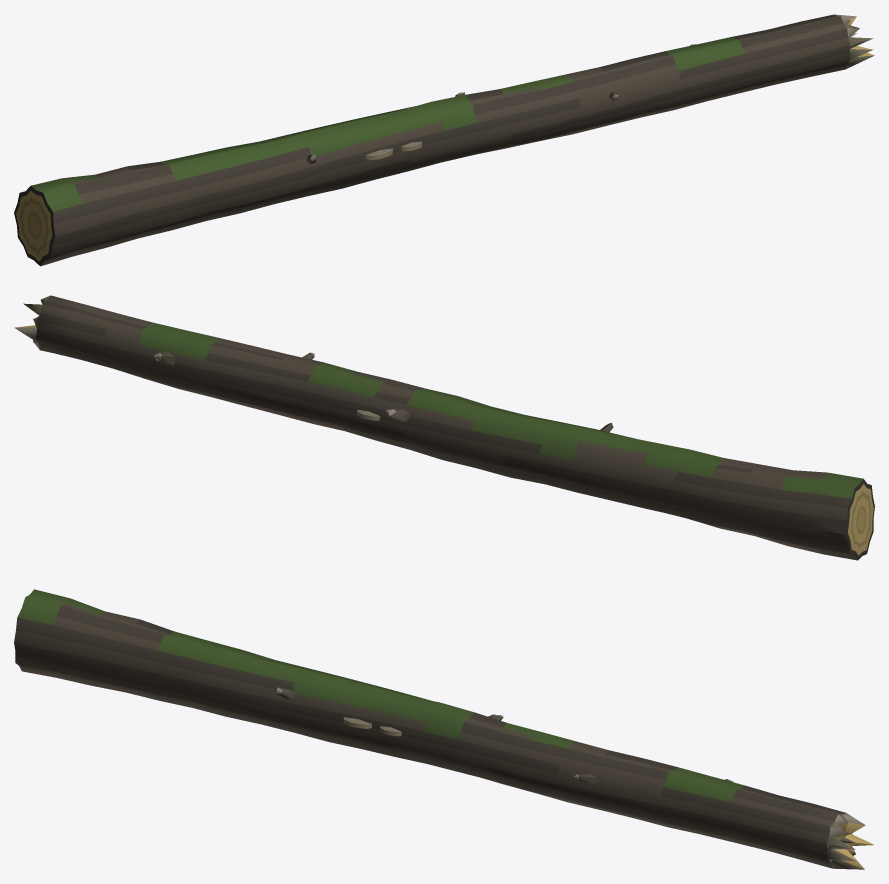
Rendered from fallen_log_8.glb.
3 renders of one model, top to bottom at view 1: azimuth 30°, elevation 25°; view 2: azimuth 150°, elevation 25°; view 3: azimuth 330°, elevation 25°, orthographic. The views are drawn at different scales.
Visible parts, largest first — view 1: FallenLog8; view 2: FallenLog8; view 3: FallenLog8.
Part boxes in pixels (x1,y1,x2,y2): FallenLog8: (14,14,874,266); FallenLog8: (14,295,874,560); FallenLog8: (14,589,874,869).
Size of the model in its own units: 8 by 0.68 by 0.72.
